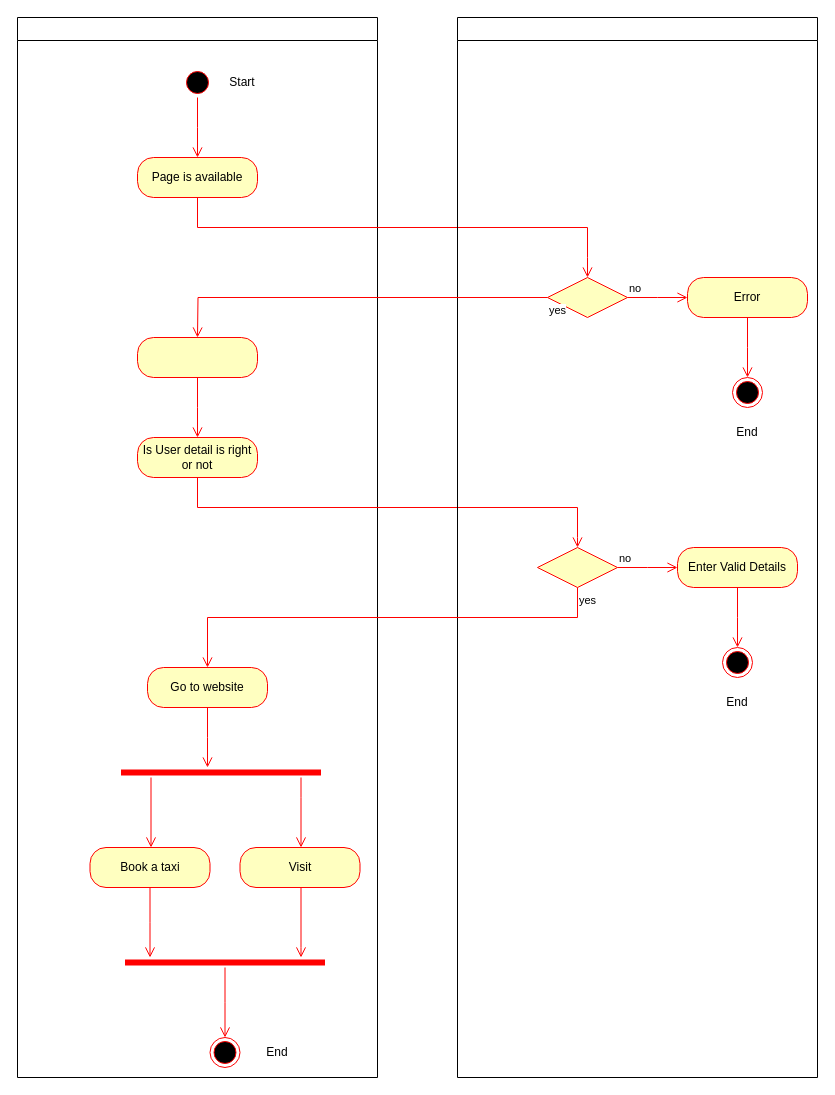
The diagram is 835 pixels wide and 1095 high, and some of its shapes have lost their labels. The box of each missing label's shape, as (x1, y1, x2, y2) in pixels:
Customer: (16, 16, 378, 1078)
Enter user detail: (136, 336, 258, 378)
Taxi Management System: (456, 16, 818, 1078)
